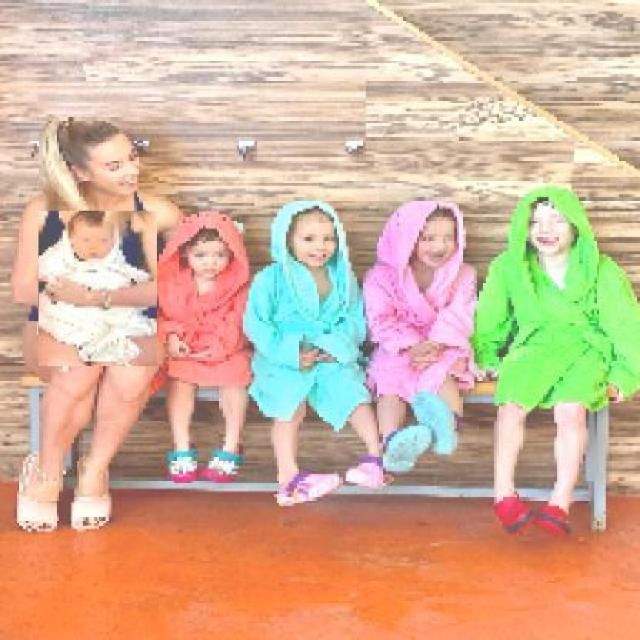child: (471, 183, 640, 540), (242, 198, 398, 508), (363, 198, 480, 472), (156, 211, 256, 486), (37, 212, 157, 368)
